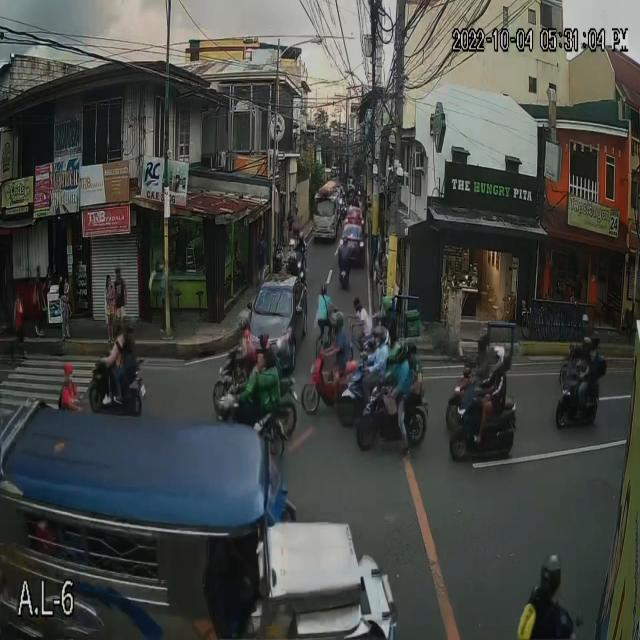Full-Faced: (474, 322, 492, 362), (367, 324, 387, 356), (343, 235, 355, 268), (330, 310, 342, 338), (236, 319, 251, 341), (586, 334, 602, 353), (259, 335, 273, 355), (124, 317, 135, 342), (405, 333, 416, 358), (396, 332, 404, 359), (108, 322, 123, 333), (290, 238, 298, 251), (301, 230, 307, 245), (346, 243, 350, 250)
Half-Faced: (61, 360, 77, 381), (322, 281, 328, 301)
Not-Wearing-Helmet: (353, 296, 361, 310)
